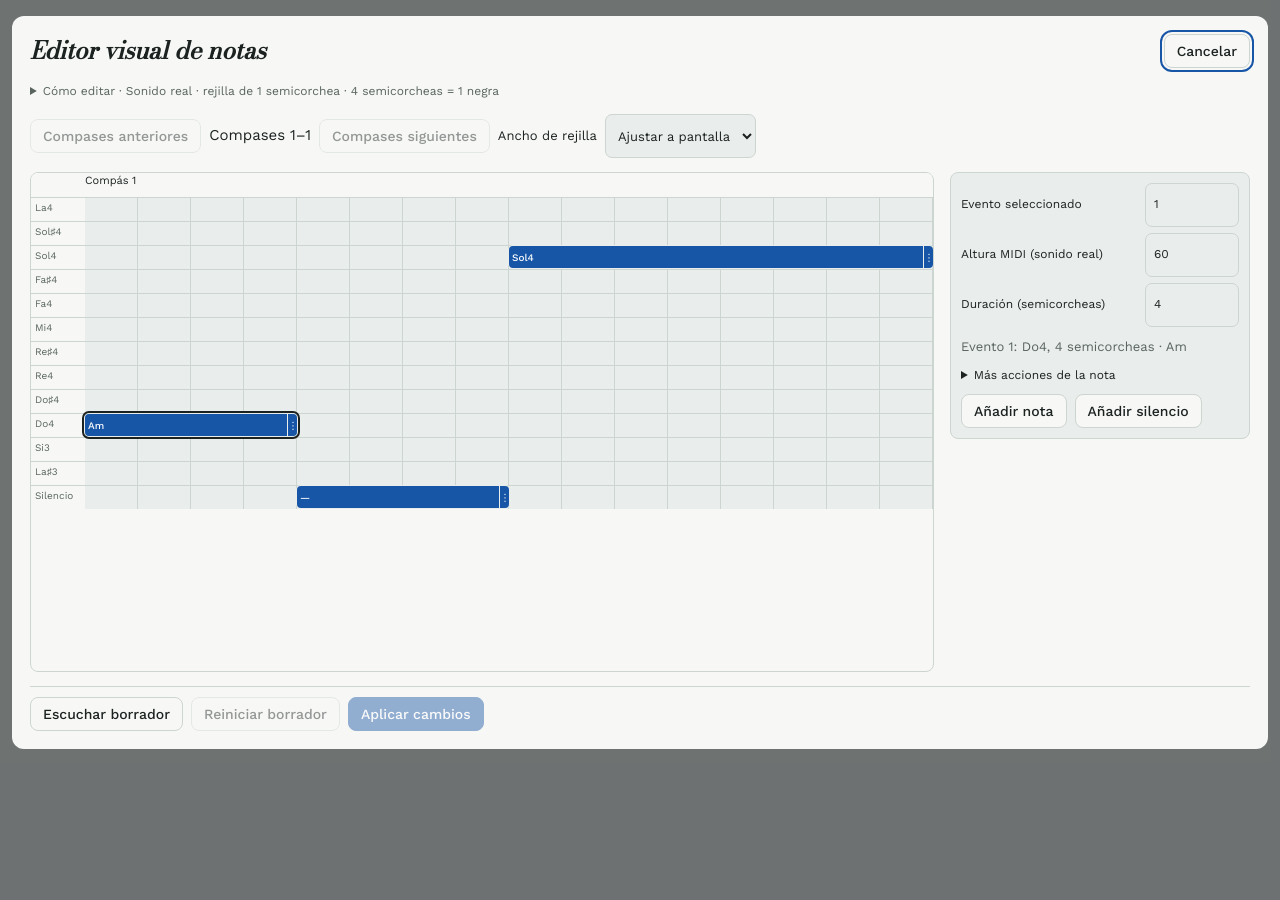
Test: editor visual: aplicar y descartar › reinicia sin guardar y no permite aplicar un borrador idéntico
Expected: the button "Aplicar cambios" is disabled, [348,697,484,731]
Replace the text in the number field labelled "Altura MIDI (sonido real)" with "65" at (1192, 255), box [1145,233,1239,277]
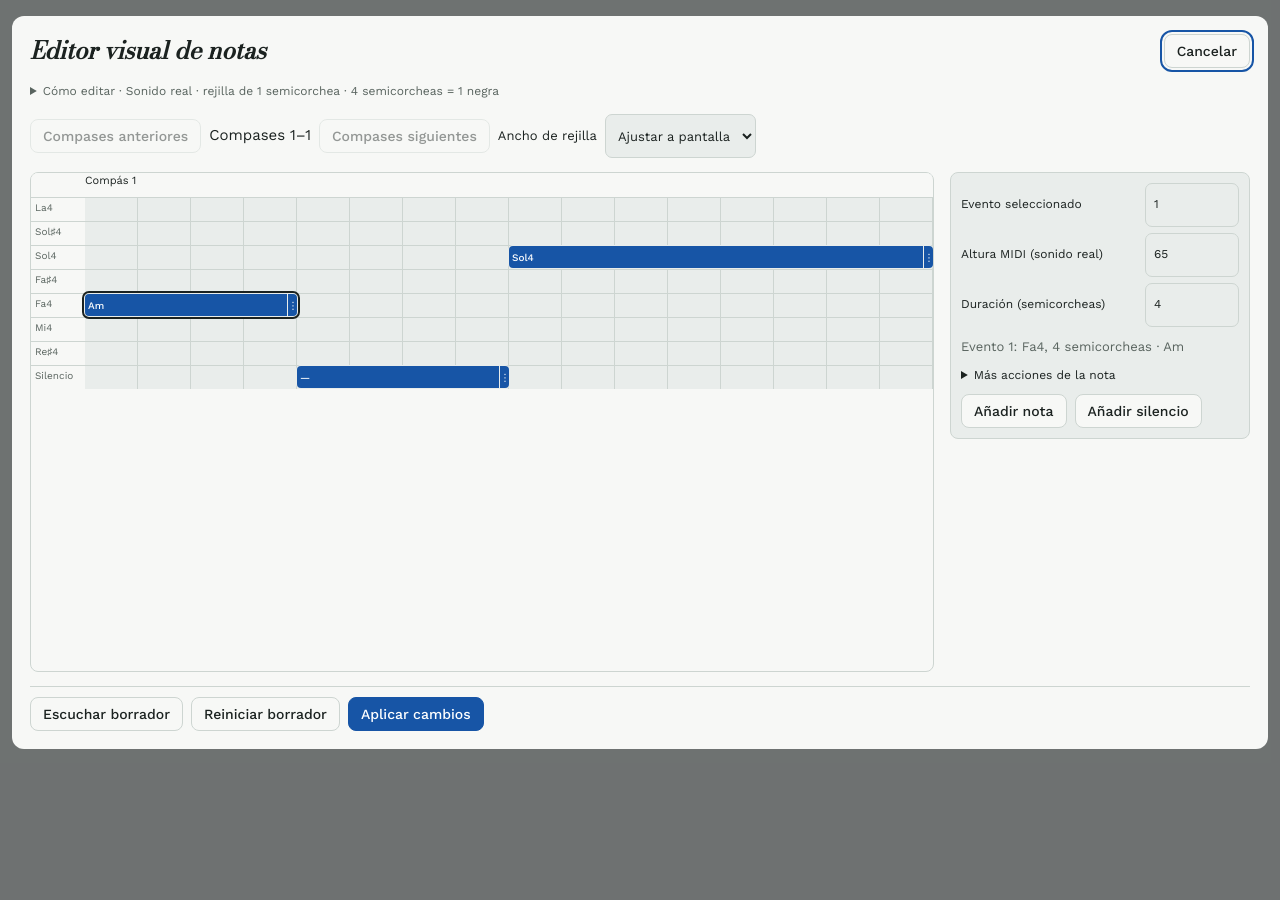
Click the button "Reiniciar borrador" at (265, 714), box [191,697,340,731]
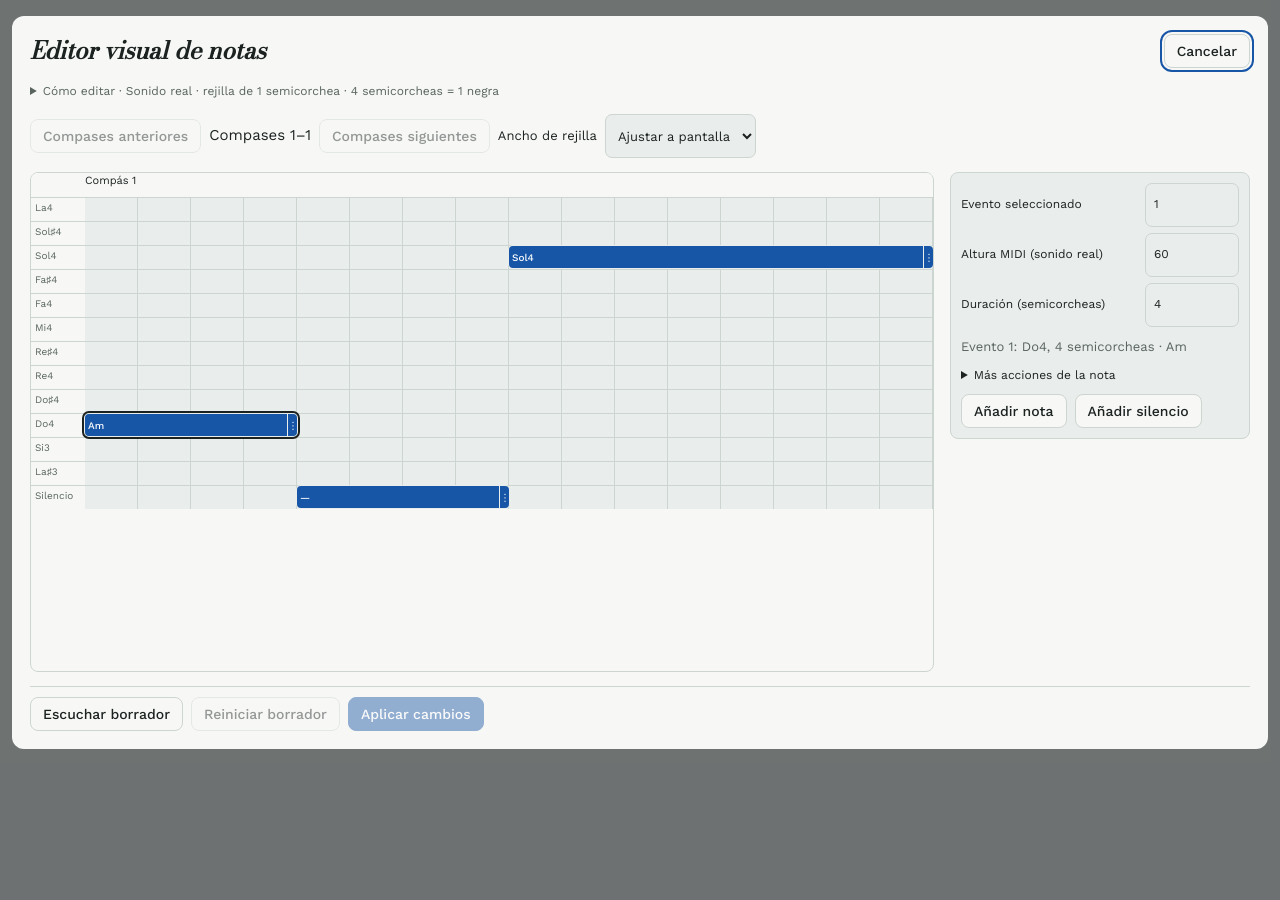
Expected: the number field labelled "Altura MIDI (sonido real)" holds "60", [1145,233,1239,277]
Expected: the button "Aplicar cambios" is disabled, [348,697,484,731]
